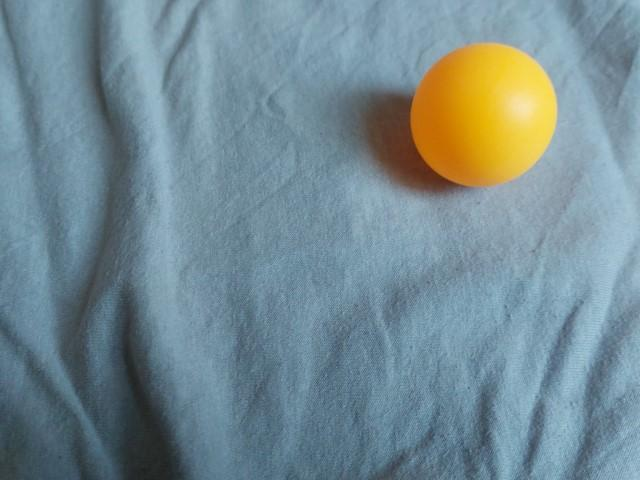oball: (403, 39, 563, 194)
